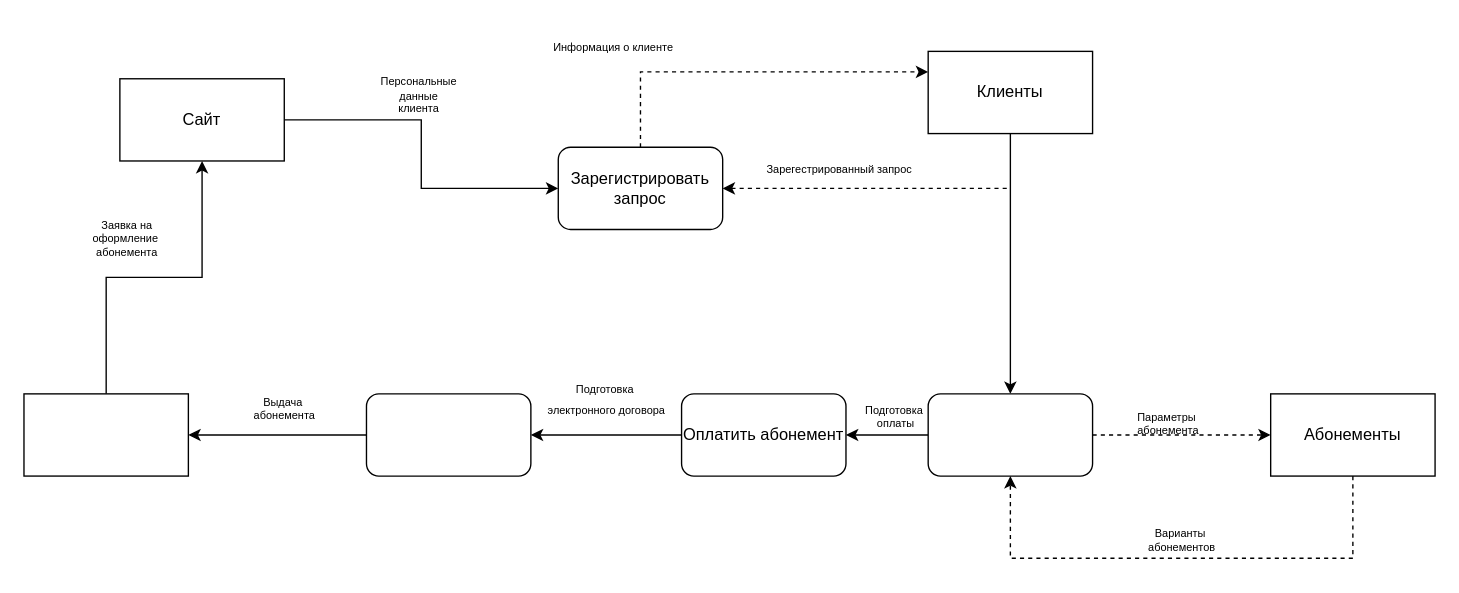
The diagram is 1459 pixels wide and 593 high, and some of its shapes have lost their labels. The shapes that lost their labels are listed below. From the top down, each one's centre as x and y in pixels, then its label:
At (x=105, y=434): "Клиент".
At (x=448, y=434): "Электронное оформление договора".
At (x=1010, y=434): "Предоставление информации об абонементах".
